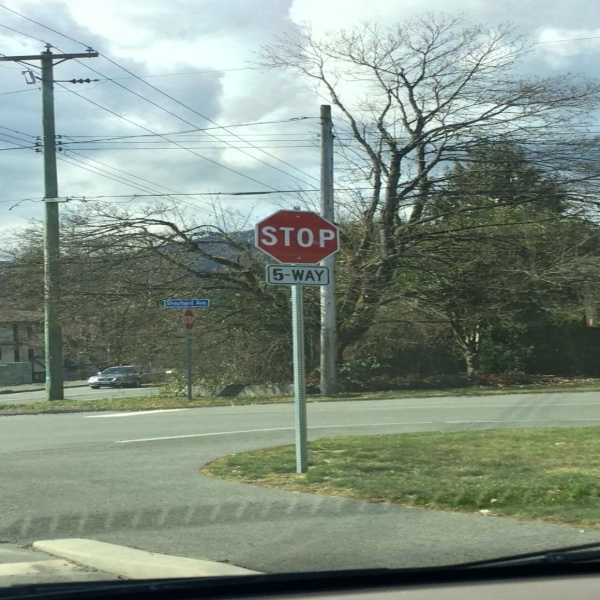stop: (258, 204, 340, 267)
